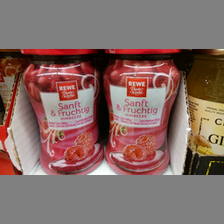jam: (19, 50, 104, 175), (103, 49, 183, 175)
